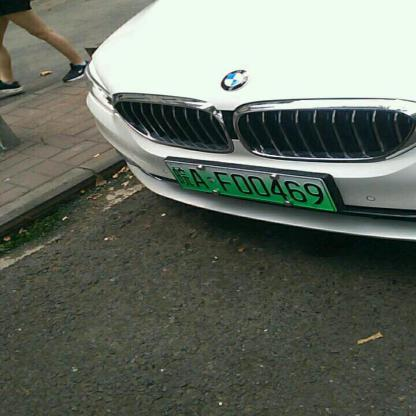lp: (165, 160, 335, 210)
